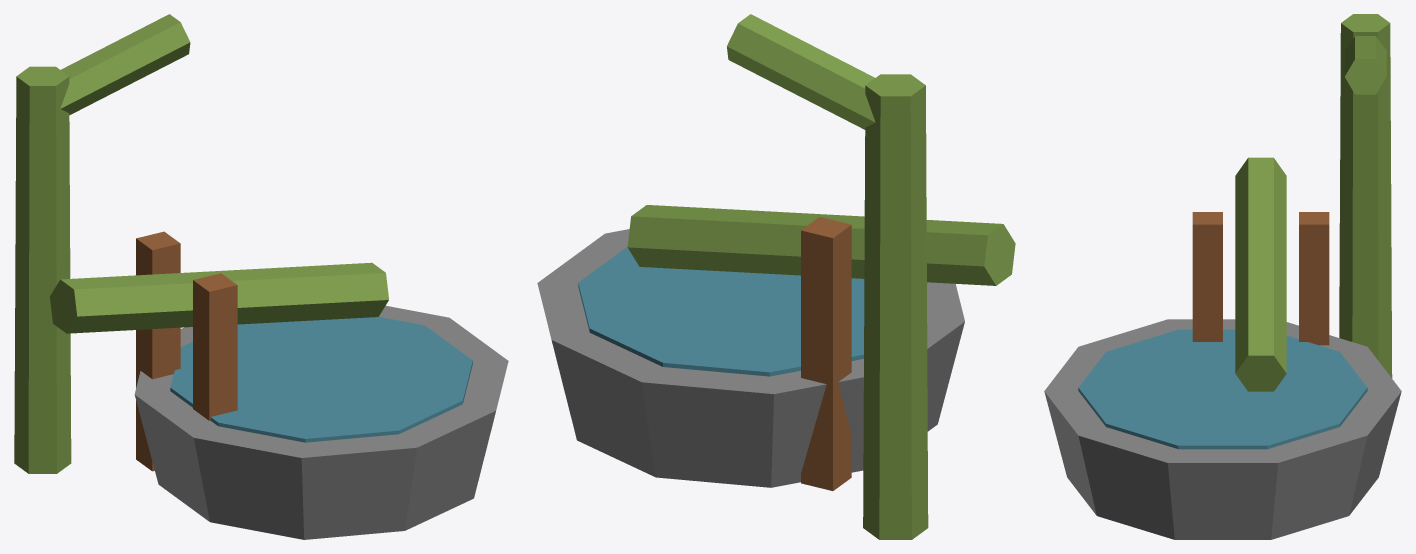
The model's file is shishi_odoshi.glb.
3 views of the same model, side by side, from view 1: azimuth 30°, elevation 25°; view 2: azimuth 150°, elevation 25°; view 3: azimuth 270°, elevation 25° (orthographic). The views are drawn at different scales.
Parts seen in each view (by area): view 1: Basin, Spout, BambooArm; view 2: Basin, Spout, BambooArm; view 3: Basin, Spout, BambooArm.
Part boxes in pixels (left/top/right/bottom): Basin: left=134, top=231, right=508, bottom=539; Spout: left=14, top=14, right=190, bottom=473; BambooArm: left=49, top=262, right=388, bottom=333; Basin: left=537, top=217, right=964, bottom=490; Spout: left=727, top=14, right=928, bottom=539; BambooArm: left=627, top=205, right=1015, bottom=285; Basin: left=1044, top=212, right=1401, bottom=539; Spout: left=1339, top=14, right=1392, bottom=378; BambooArm: left=1235, top=157, right=1286, bottom=391.
Size of the model in its own units: 22.65 by 22.41 by 18.8.
